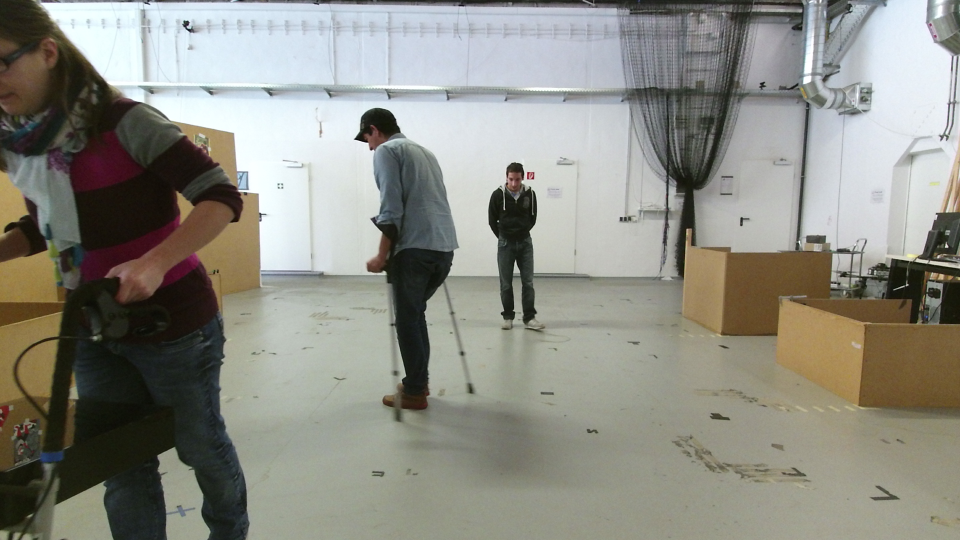crutches: (349, 90, 477, 429)
